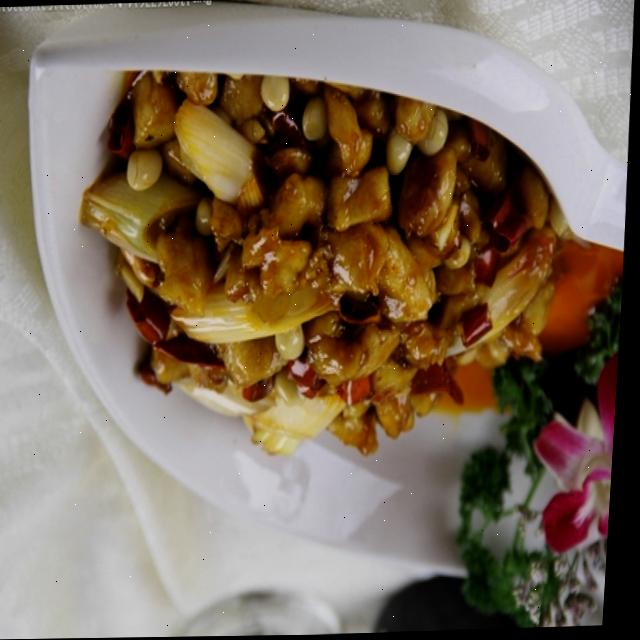鸡肉料理 含炸鸡: (0, 0, 623, 630)
